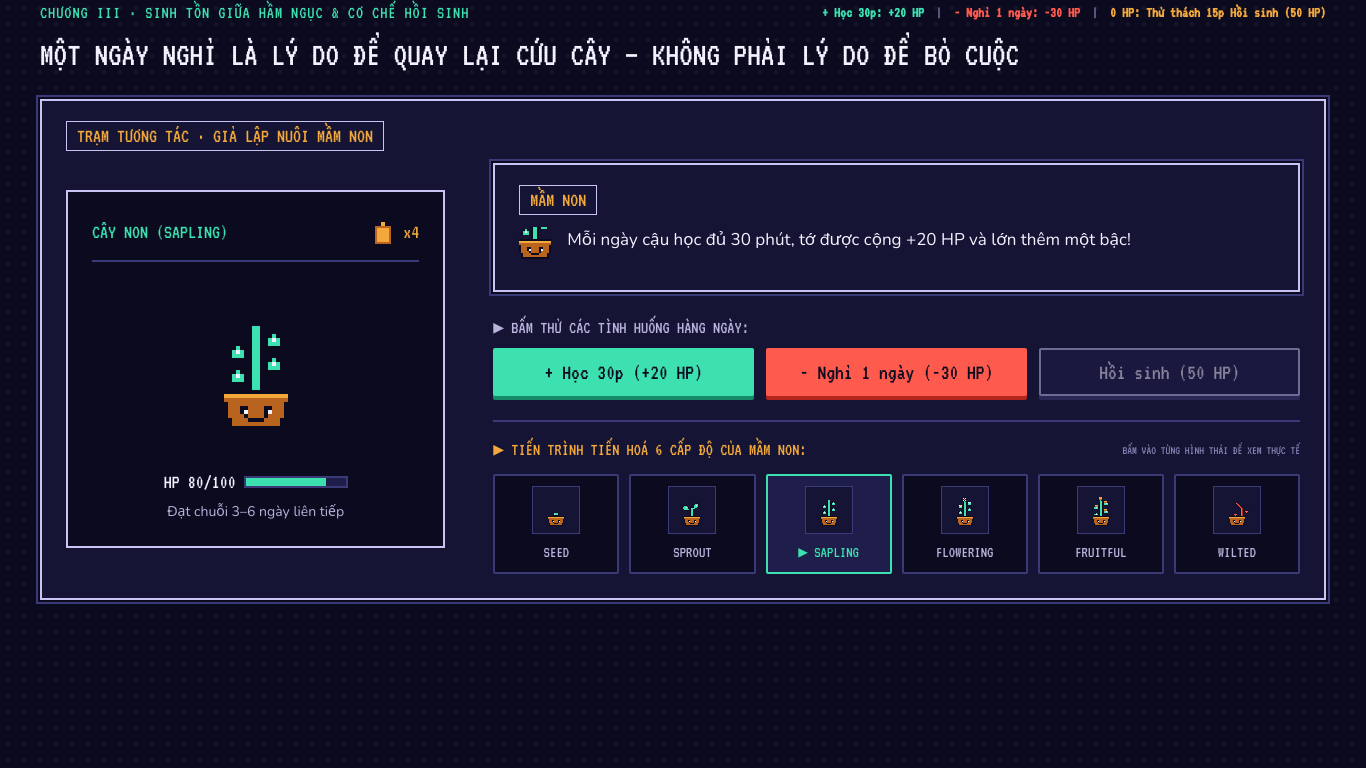
ChapterThreeCompanion › allows inspecting any of the 6 plant stages directly from the gallery
Click the button "fruitful".
click(1101, 524)  # box [1038,474,1164,574]
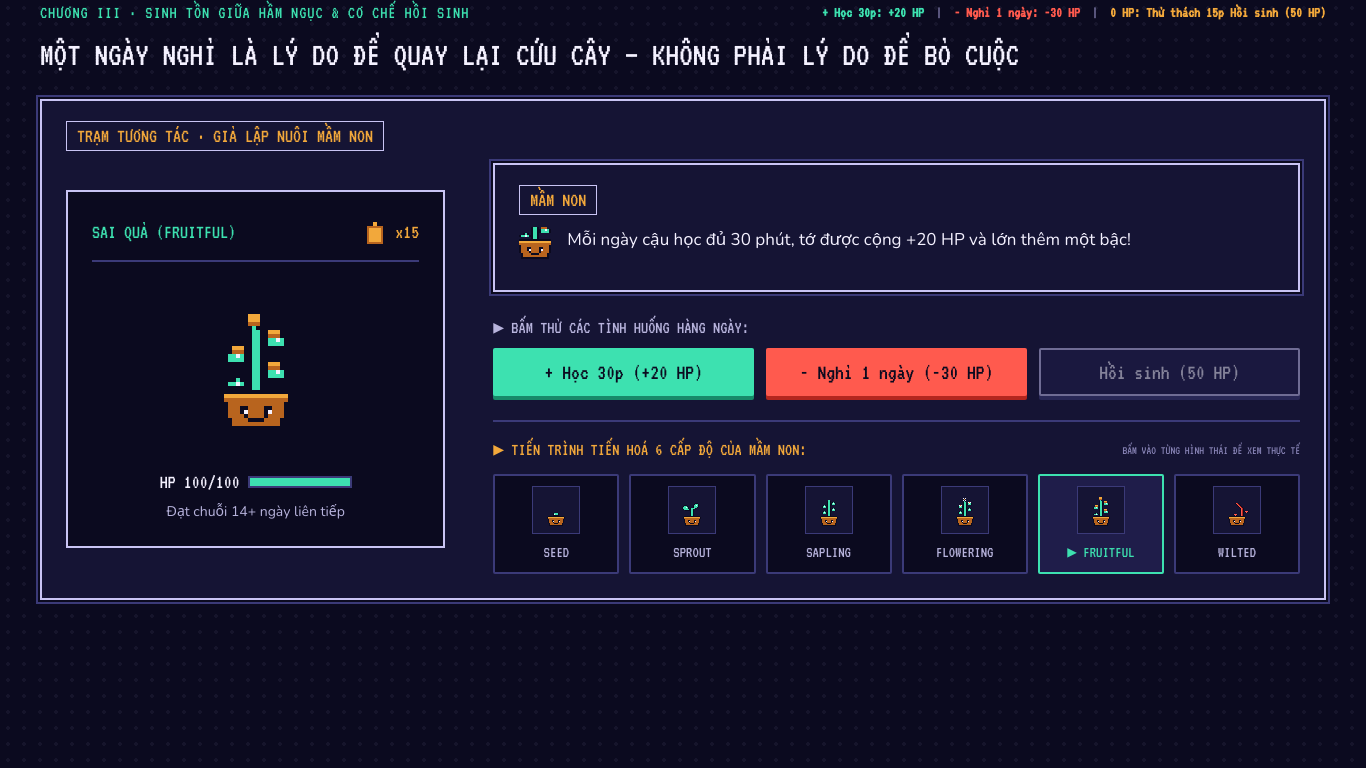
Expected: the text "Sai quả (Fruitful)" is shown, [92,220,236,244]
Expected: the text "x15" is shown, [395,220,419,244]
